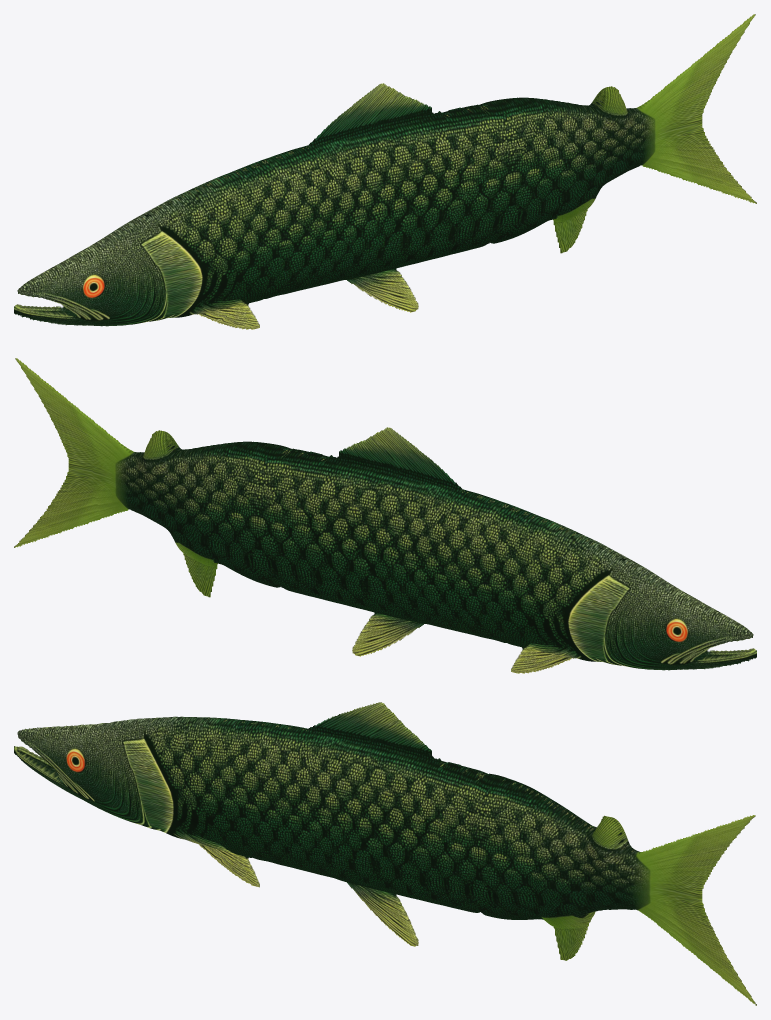
File: salmon.glb
3 views of the same model, one above another, from view 1: azimuth 30°, elevation 25°; view 2: azimuth 150°, elevation 25°; view 3: azimuth 330°, elevation 25° (orthographic).
Parts seen in each view (by area): view 1: salmon; view 2: salmon; view 3: salmon.
Boxes of the visible parts, <box> form: salmon: <box>14,14,756,329</box>; salmon: <box>14,358,756,673</box>; salmon: <box>14,702,756,1005</box>.
Size of the model in its own units: 3.26 by 0.99 by 0.2664.
1 material, 1 textured.
